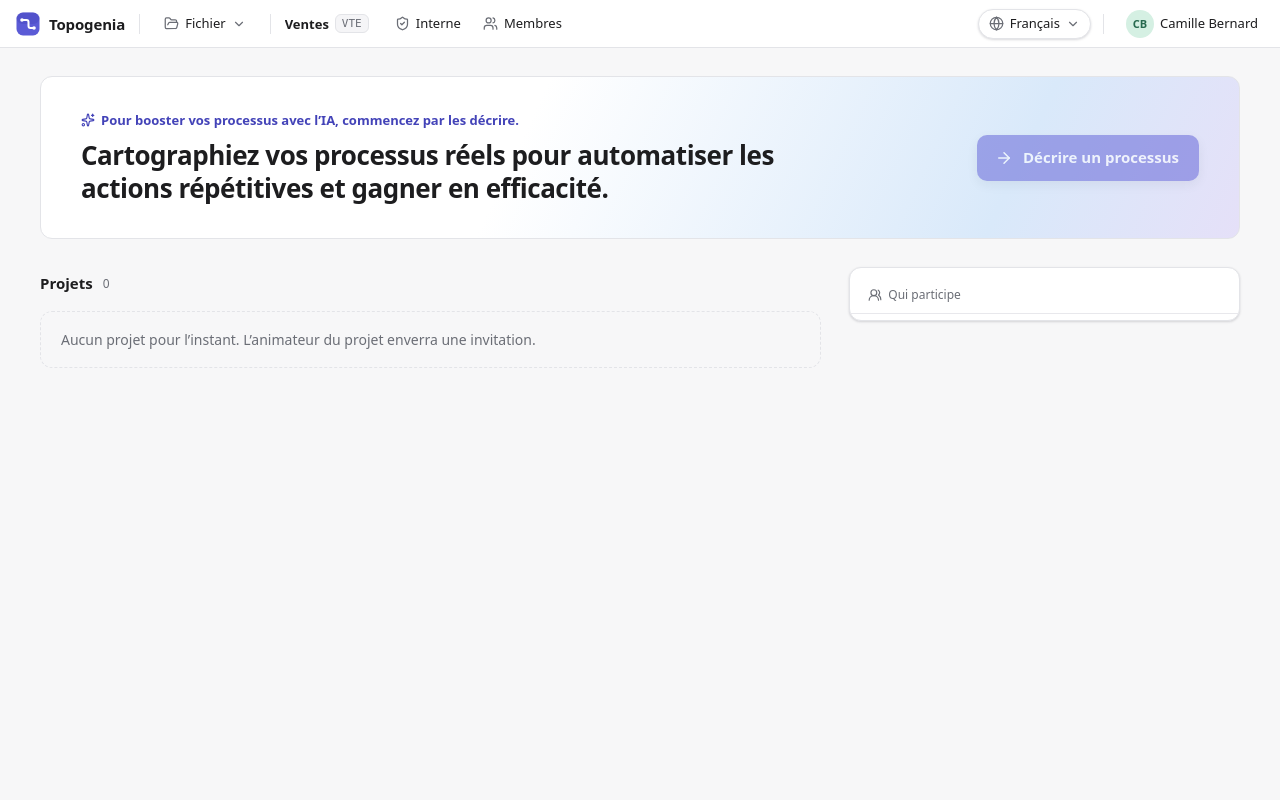
Scenario: the properties of the project for a member who is not a facilitator (B-4-69, B-8.1-44) › shows the values read again at the opening, without the means to change them; Fermer closes
The image size is (1280, 800).
Expected: the header with test id "app-header" is shown, top-left (0, 0), bottom-right (1279, 48)
Click the button with test id "header-classification": click(428, 24) top-left (385, 8), bottom-right (471, 38)
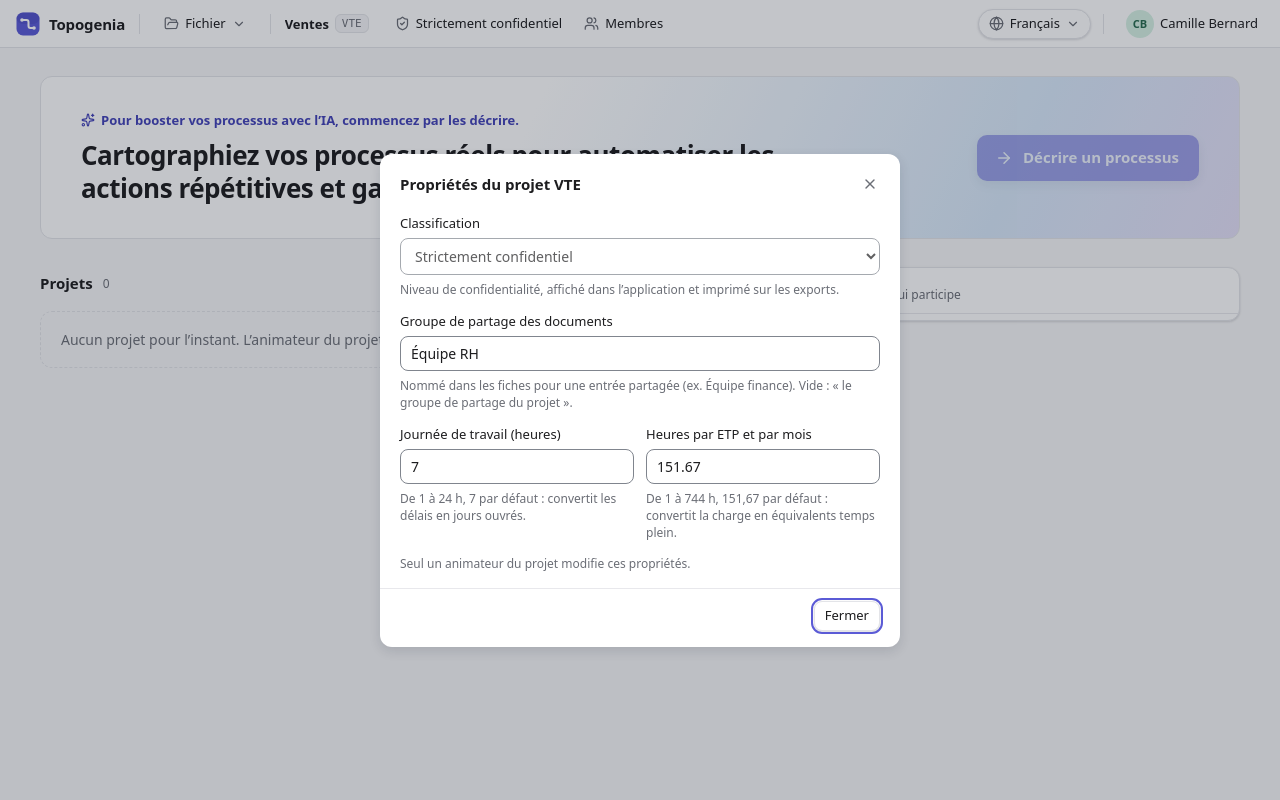
Expected: the text with test id "project-properties-read-only" reads "Seul un animateur du projet modifie ces propriétés.", top-left (400, 554), bottom-right (690, 572)
Expected: the button with test id "header-classification" reads "Strictement confidentiel", top-left (385, 8), bottom-right (572, 38)
Click the button with test id "project-properties-done": click(847, 616) top-left (814, 600), bottom-right (880, 630)
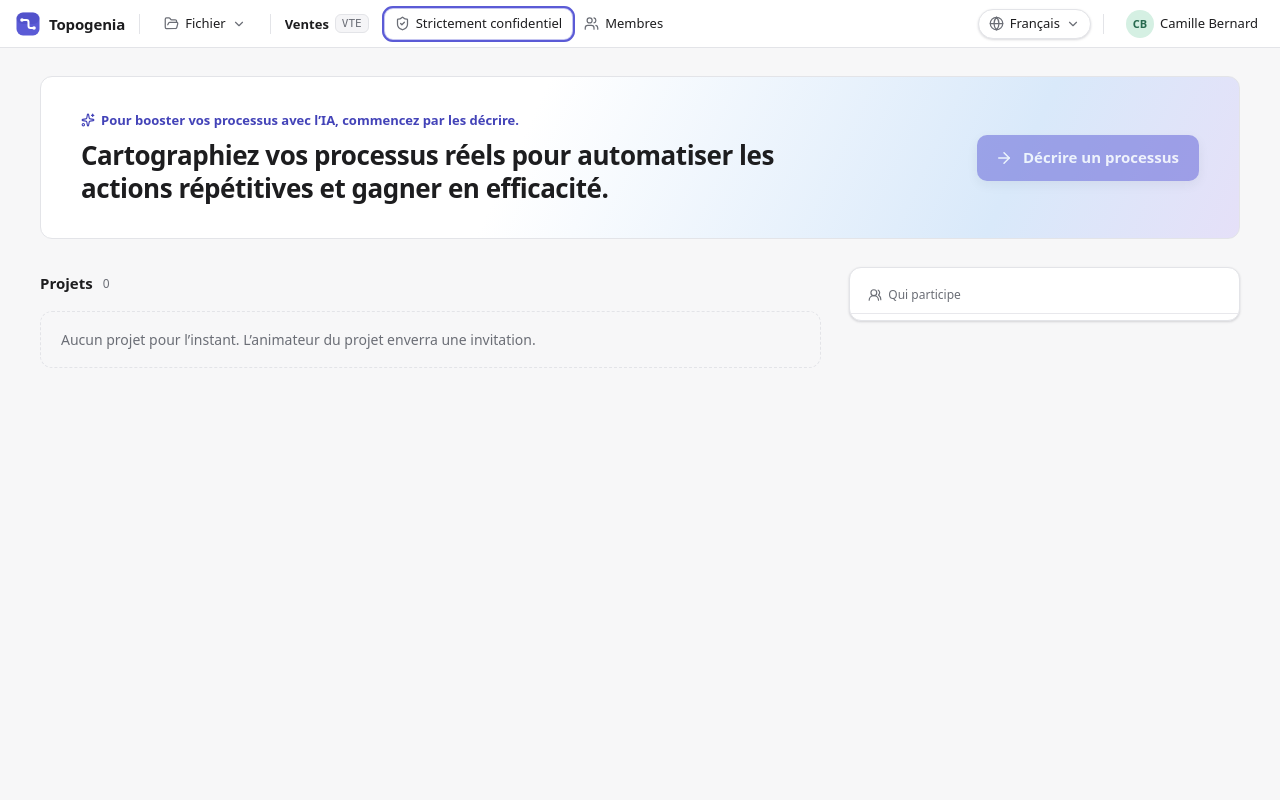
Expected: the dialog is gone
